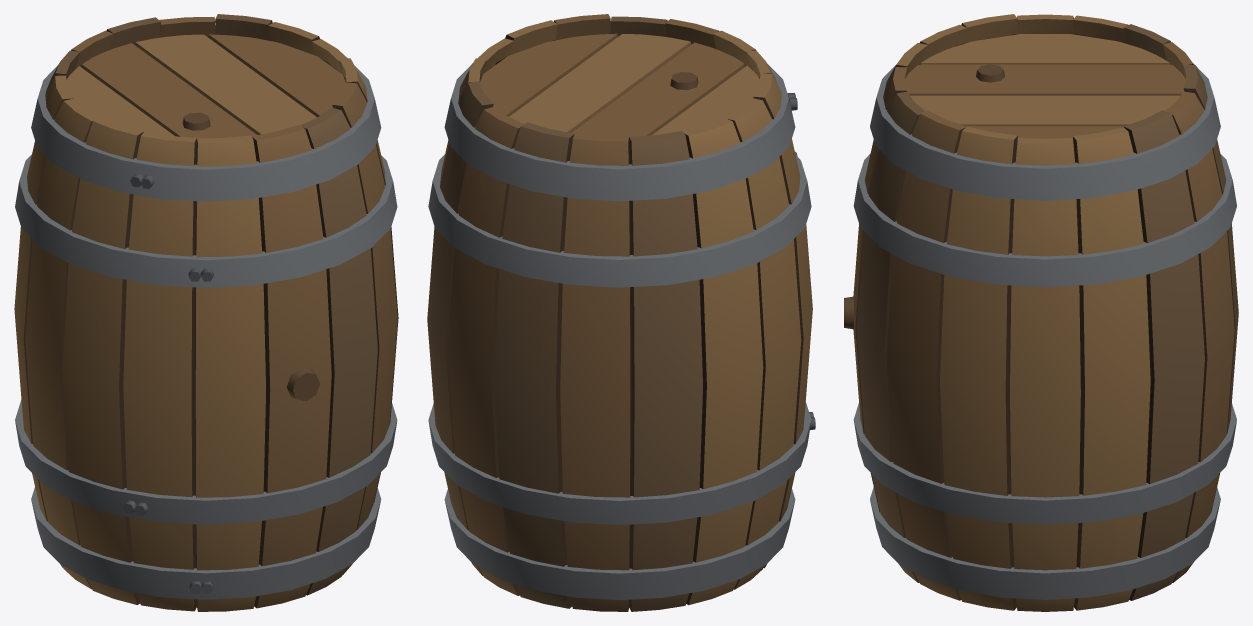
Rendered from SM_LPD_Crate_BarrelUpright_01.fbx.
3 views of the same model, side by side, from view 1: azimuth 30°, elevation 25°; view 2: azimuth 150°, elevation 25°; view 3: azimuth 270°, elevation 25° (orthographic).
Visible parts, largest first — view 1: SM_LPD_Crate_BarrelUpright_01; view 2: SM_LPD_Crate_BarrelUpright_01; view 3: SM_LPD_Crate_BarrelUpright_01.
Part boxes in pixels (box(x1,y1,x2,y2)): SM_LPD_Crate_BarrelUpright_01: box(14, 14, 398, 611); SM_LPD_Crate_BarrelUpright_01: box(427, 14, 815, 611); SM_LPD_Crate_BarrelUpright_01: box(844, 14, 1238, 611).
Bounding box in the file's own units: 0.6311 × 0.8522 × 0.6472.
